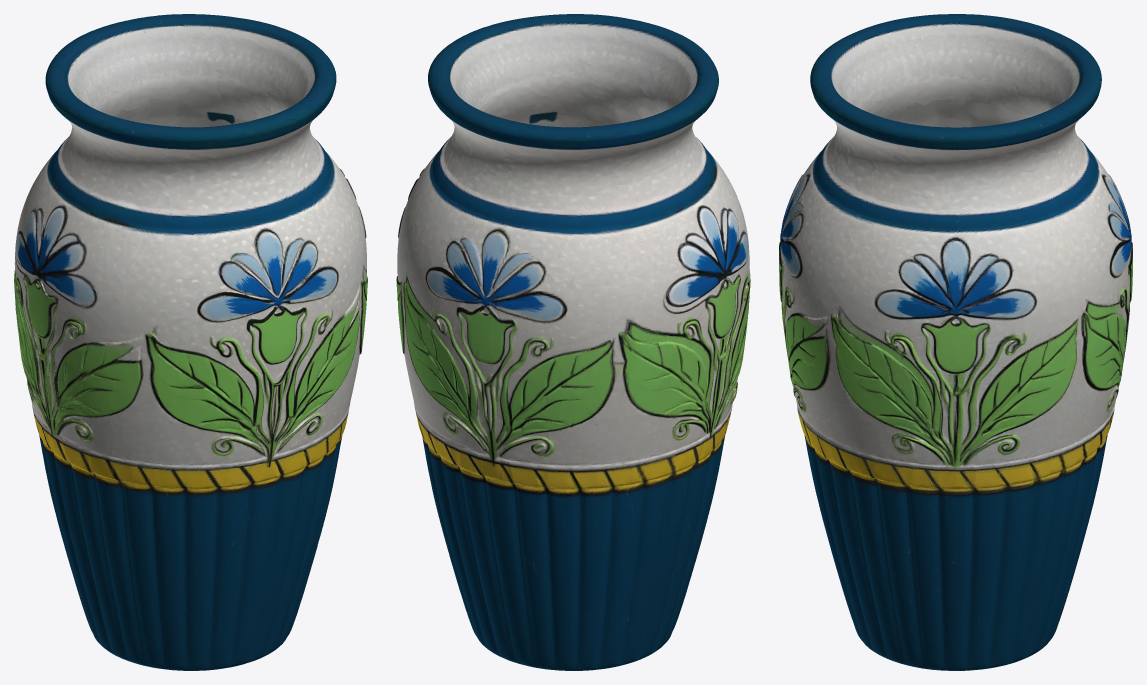
Rendered from vaso-fiori-blu.glb.
The picture shows the model from 3 angles, left to right: view 1: azimuth 30°, elevation 25°; view 2: azimuth 150°, elevation 25°; view 3: azimuth 270°, elevation 25°; orthographic projection.
Visible parts, largest first — view 1: Mesh_0; view 2: Mesh_0; view 3: Mesh_0.
Boxes of the visible parts, x1,y1,x2,y2 form: Mesh_0: [14, 14, 367, 670]; Mesh_0: [396, 14, 750, 670]; Mesh_0: [779, 14, 1132, 670].
Bounding box in the file's own units: 1.09 × 1.9 × 1.09.
Materials: 1 (1 with a texture image).
